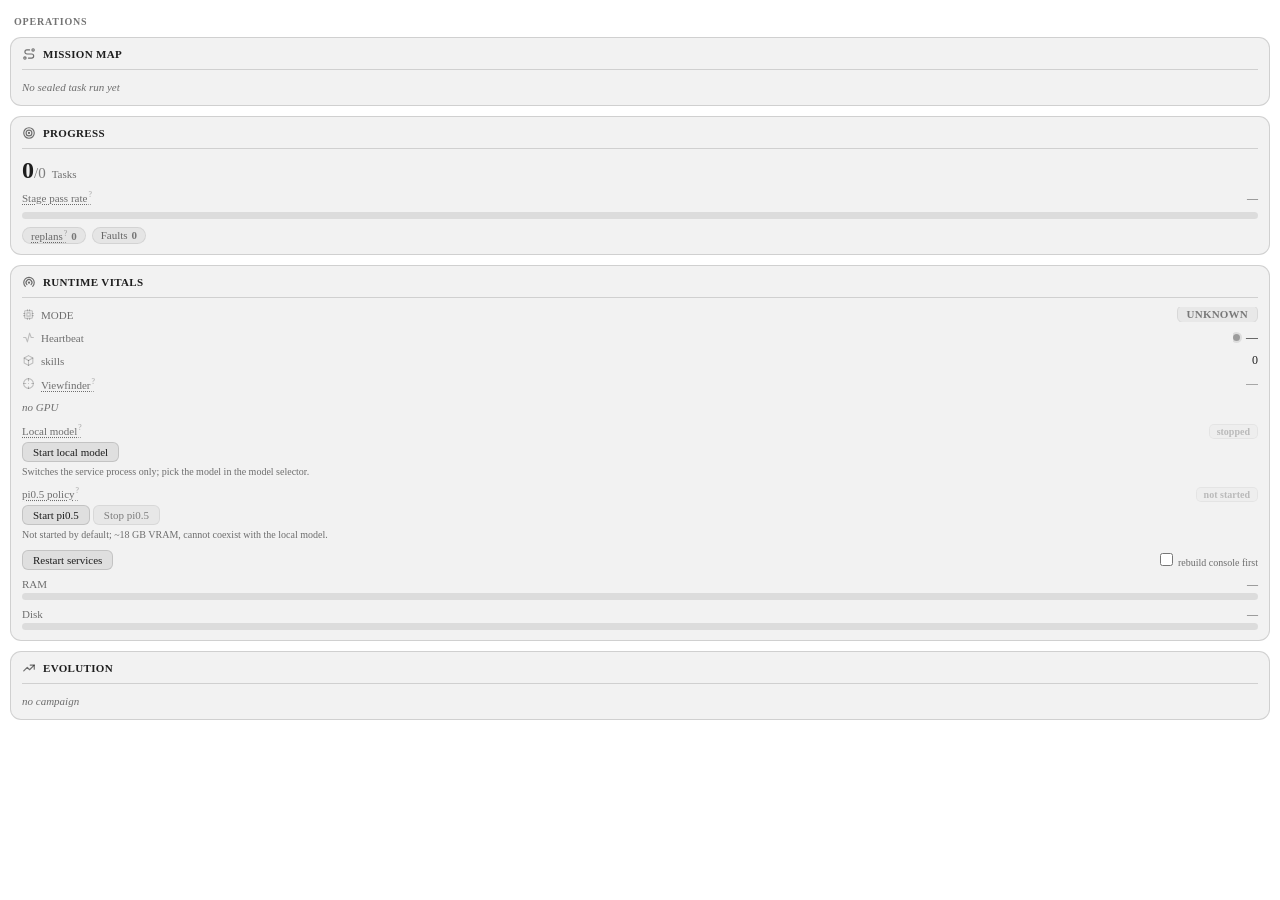
Test: OperatorRail smoke › hands the button back when the action reports an error
Expected: the text "stopped" is shown, [1209, 424, 1258, 439]
Click the button "Start local model".
click(71, 452)  # box [22, 442, 119, 462]
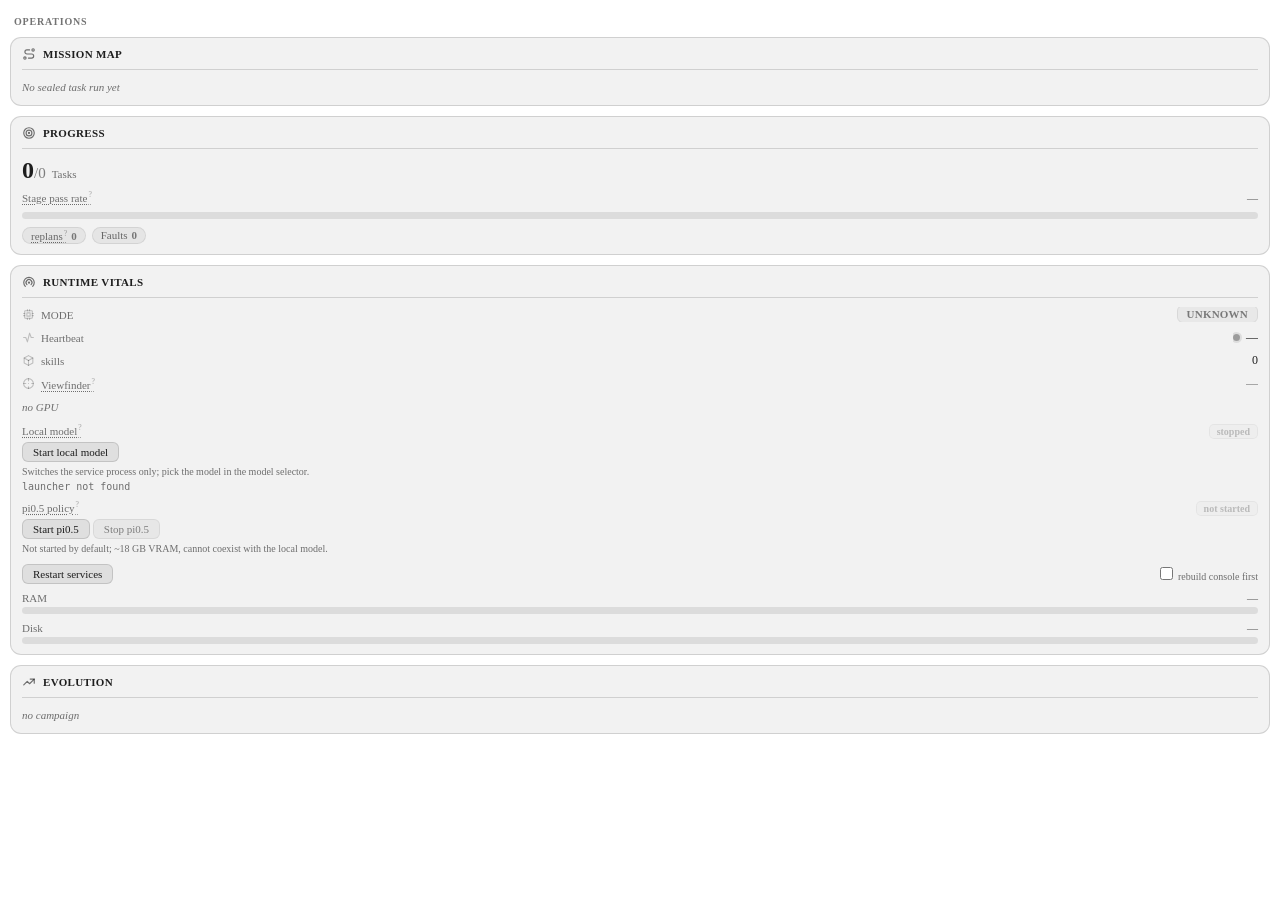
Now the text "launcher not found" is shown, box [22, 482, 130, 492]
